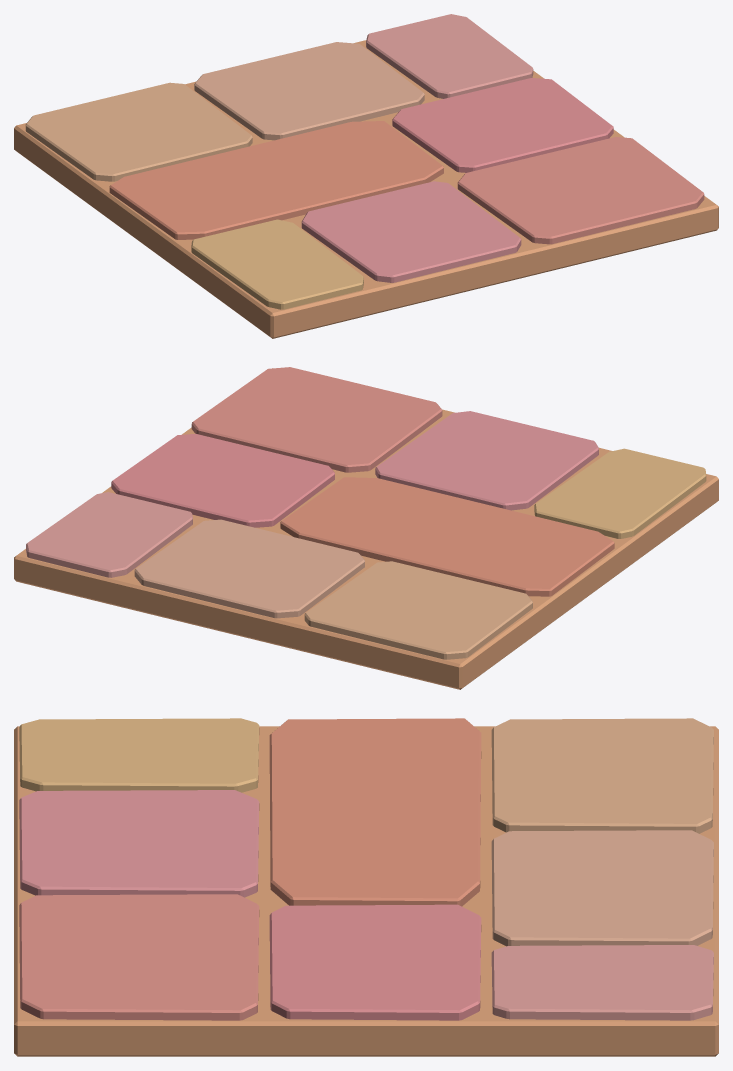
The model's file is WC_RIVER_Ground_Stone_C.glb.
The picture shows the model from 3 angles, top to bottom: view 1: azimuth 30°, elevation 25°; view 2: azimuth 150°, elevation 25°; view 3: azimuth 270°, elevation 25°; orthographic projection. The views are drawn at different scales.
Parts seen in each view (by area): view 1: WC_RIVER_Ground_Stone_C_RenderMesh; view 2: WC_RIVER_Ground_Stone_C_RenderMesh; view 3: WC_RIVER_Ground_Stone_C_RenderMesh.
Part boxes in pixels (x1=…): WC_RIVER_Ground_Stone_C_RenderMesh: x1=14, y1=14, x2=718, y2=338; WC_RIVER_Ground_Stone_C_RenderMesh: x1=14, y1=367, x2=718, y2=689; WC_RIVER_Ground_Stone_C_RenderMesh: x1=14, y1=718, x2=718, y2=1056.
Size of the model in its own units: 2 by 0.14 by 2.
